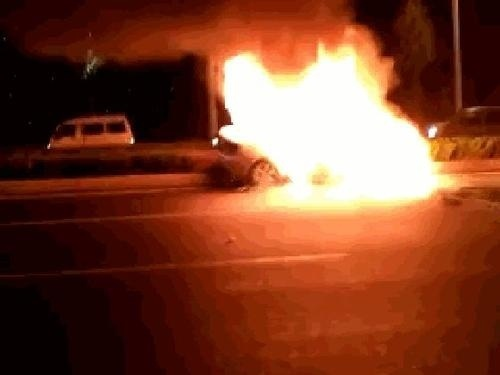fire: (212, 43, 446, 202)
